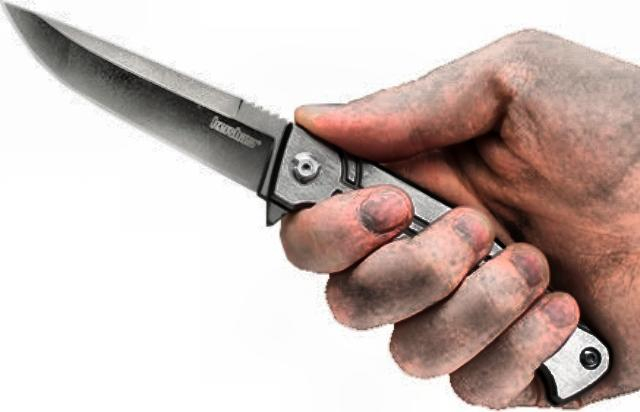knife: (0, 0, 478, 290)
